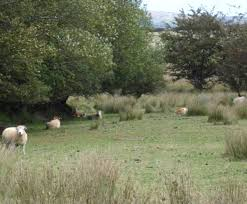sheep: (1, 122, 31, 154), (171, 104, 191, 122), (80, 110, 103, 125), (227, 94, 247, 111), (46, 114, 62, 133)
